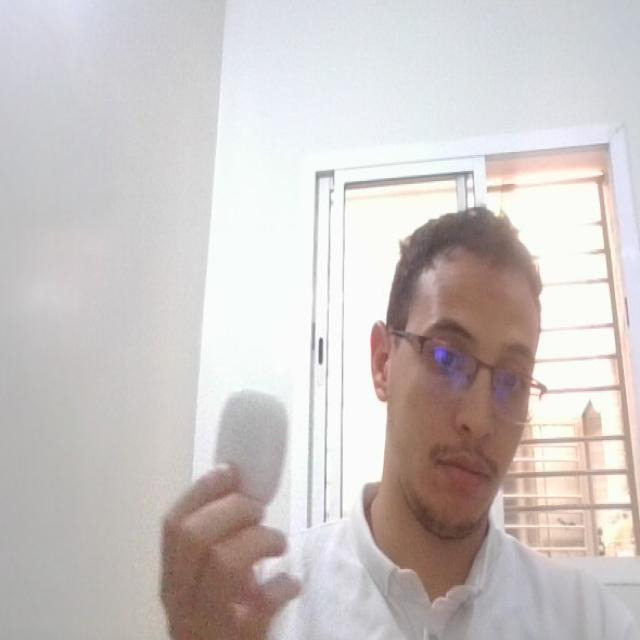airpods: (212, 380, 290, 511)
